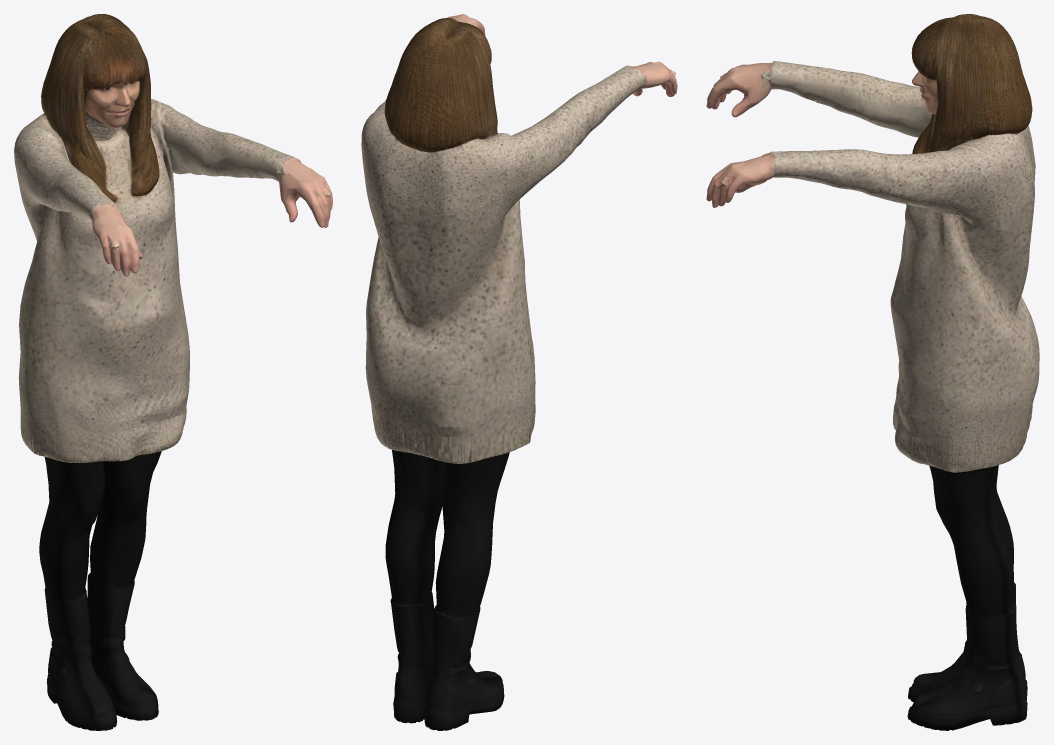
File: karen.glb
3 views of the same model, side by side, from view 1: azimuth 30°, elevation 25°; view 2: azimuth 150°, elevation 25°; view 3: azimuth 270°, elevation 25° (orthographic).
Parts seen in each view (by area): view 1: model; view 2: model; view 3: model.
Part boxes in pixels (bbox=[...]): model: bbox=[14, 14, 332, 730]; model: bbox=[361, 14, 677, 730]; model: bbox=[706, 14, 1039, 730].
Size of the model in its own units: 0.3417 by 0.9795 by 0.4258.
1 material, 1 textured.
